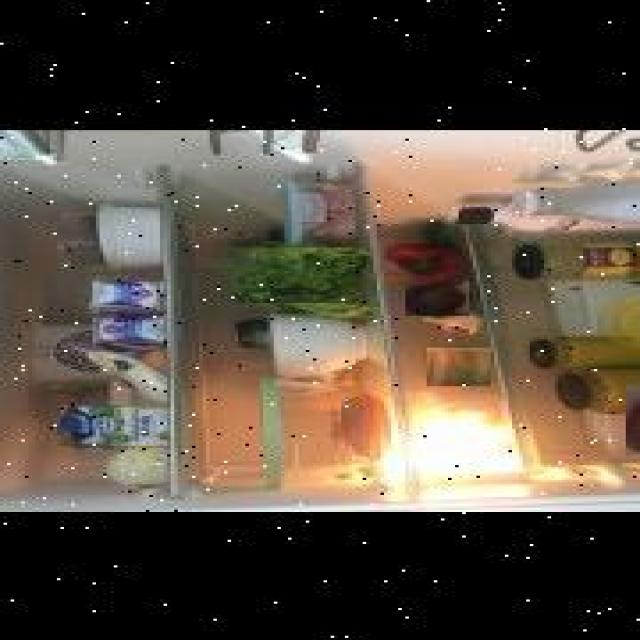avocado: (407, 280, 471, 314)
bell_pepper: (386, 240, 464, 283)
garlic: (423, 309, 480, 335)
guacamole: (426, 344, 491, 383)
heavy_cream: (60, 403, 174, 444)
salad: (234, 245, 370, 301)
yogurt: (94, 312, 166, 342), (92, 280, 164, 307)
